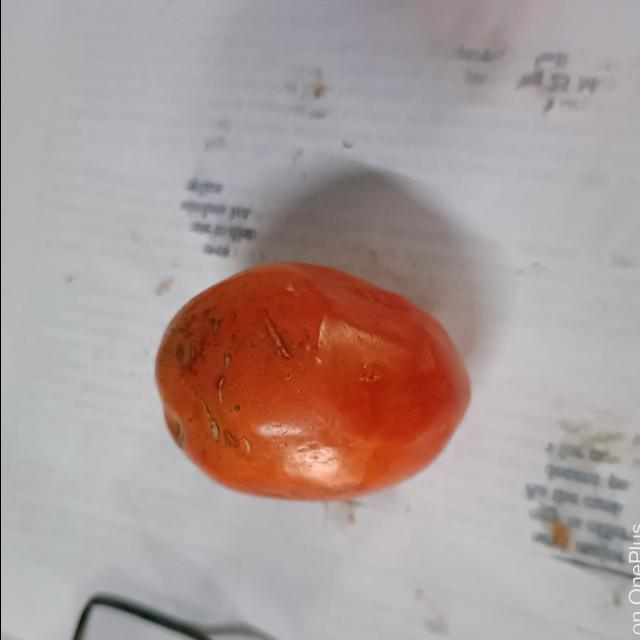Botrytis: (262, 303, 292, 365), (194, 408, 227, 441)
